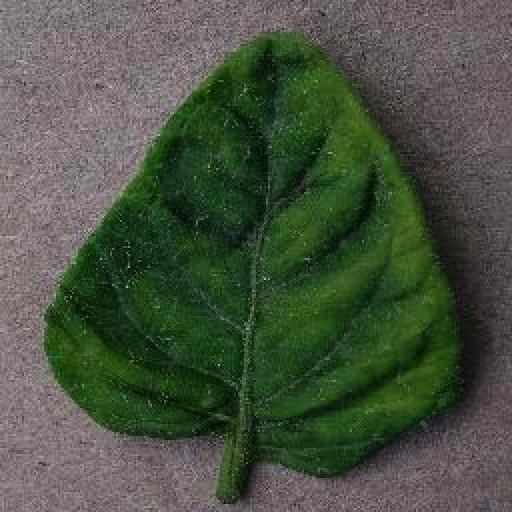disease_tomato: (40, 24, 466, 482)
